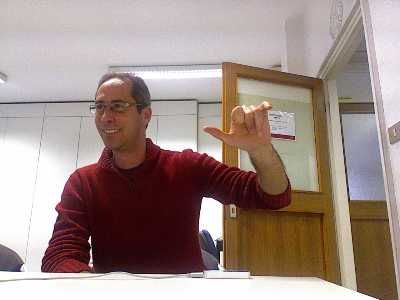六六六: (202, 100, 272, 152)
